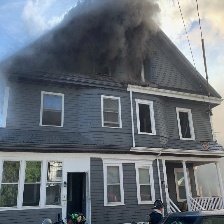smoke: (15, 1, 171, 80)
